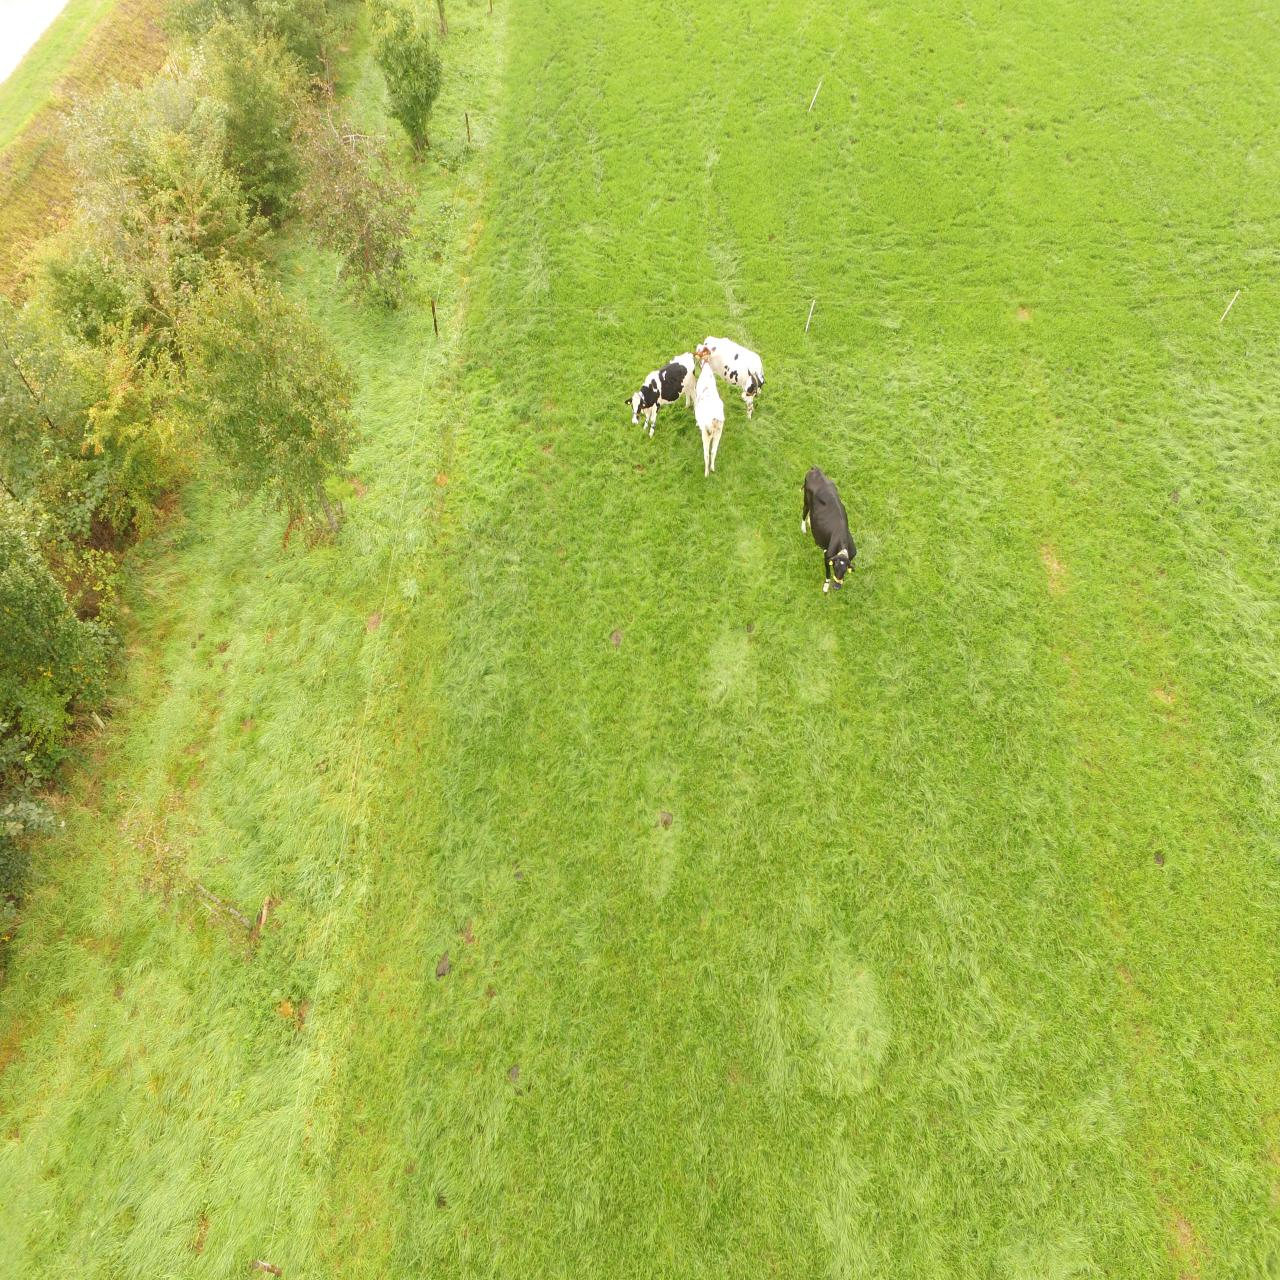cow: (801, 465, 857, 598), (626, 354, 692, 436), (703, 334, 763, 423), (692, 340, 724, 479)
